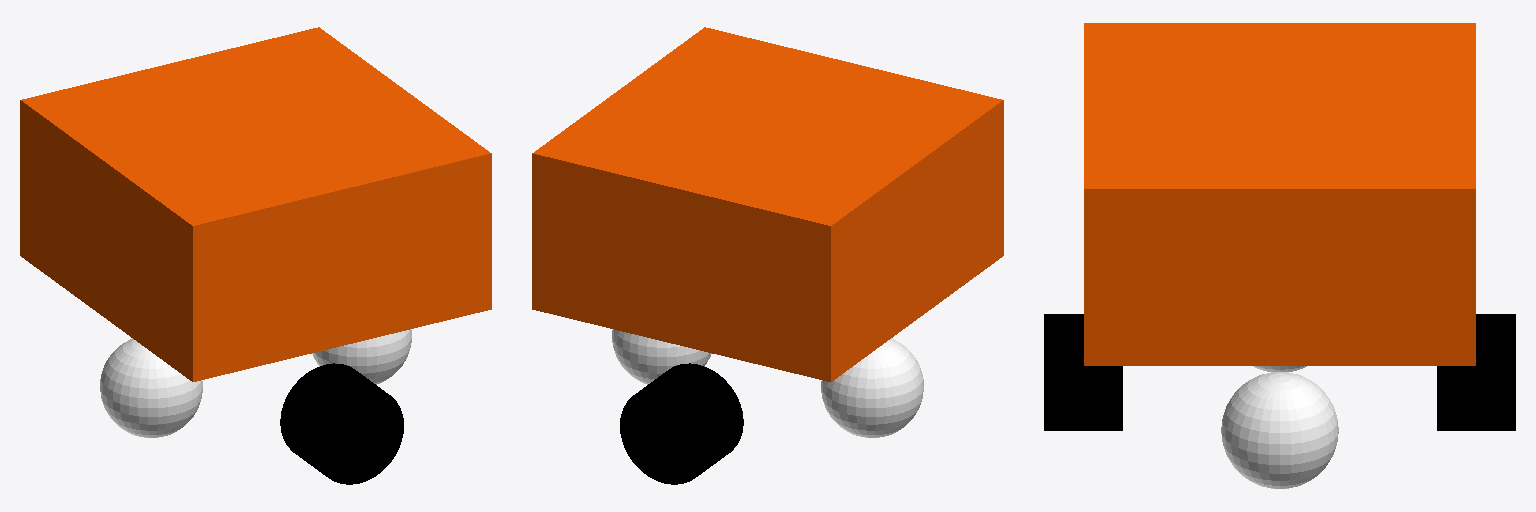
robot.urdf — diffbot:
<?xml version="1.0"?>
<!--
  Plain URDF expanded from ros2_control_demo_description DiffBot xacro
  (prefix="") for MineWorld urdf_to_mjcf_planar.py. Source xacro remains in urdf/.
  Upstream: ros-controls/ros2_control_demos @ 1c5c4399a66302987af83684469fe9fde42a0e67
  License: Apache-2.0 (see LICENSE).

  Geometry: official DiffBot ×10 (≈1.0 m chassis footprint) for POC visibility.
  Chassis mass/Izz kept for MineWorld planar velocity-servo tracking (not volume-scaled).

  Simulation authority = generated MJCF (diffbot_planar.xml) with MineWorld
  planar velocity joints — not native differential wheel actuators.
-->
<robot name="diffbot">
  <link name="base_link">
    <collision>
      <origin xyz="0 0 0" rpy="0 0 0"/>
      <geometry>
        <box size="1.0 1.0 0.5"/>
      </geometry>
    </collision>
    <visual>
      <origin xyz="0 0 0.25" rpy="0 0 0"/>
      <geometry>
        <box size="1.0 1.0 0.5"/>
      </geometry>
      <material name="orange">
        <color rgba="1.0 0.4235294118 0.03921568627 1"/>
      </material>
    </visual>
    <inertial>
      <origin xyz="0 0 0" rpy="0 0 0"/>
      <!-- Not volume-scaled with ×10 geometry; tuned for planar velocity servos. -->
      <mass value="12.0"/>
      <inertia ixx="0.15" ixy="0.0" ixz="0.0" iyy="0.25" iyz="0.0" izz="0.30"/>
    </inertial>
  </link>

  <joint name="left_wheel_joint" type="continuous">
    <parent link="base_link"/>
    <child link="left_wheel"/>
    <origin xyz="0 -0.5 -0.25" rpy="0 0 0"/>
    <axis xyz="0 1 0"/>
    <dynamics damping="0.2"/>
    <limit effort="100" velocity="1.0"/>
  </joint>
  <link name="left_wheel">
    <collision>
      <origin xyz="0 0 0" rpy="1.57079632679 0 0"/>
      <geometry>
        <cylinder length="0.2" radius="0.15"/>
      </geometry>
    </collision>
    <visual>
      <origin xyz="0 0 0" rpy="1.57079632679 0 0"/>
      <geometry>
        <cylinder length="0.2" radius="0.15"/>
      </geometry>
      <material name="black">
        <color rgba="0 0 0 1"/>
      </material>
    </visual>
    <inertial>
      <origin xyz="0 0 0" rpy="1.57079632679 0 0"/>
      <mass value="0.3"/>
      <inertia ixx="2.275e-05" ixy="0.0" ixz="0.0" iyy="2.275e-05" iyz="0.0" izz="3.375e-05"/>
    </inertial>
  </link>

  <joint name="right_wheel_joint" type="continuous">
    <parent link="base_link"/>
    <child link="right_wheel"/>
    <origin xyz="0 0.5 -0.25" rpy="0 0 0"/>
    <axis xyz="0 1 0"/>
    <dynamics damping="0.2"/>
    <limit effort="100" velocity="1.0"/>
  </joint>
  <link name="right_wheel">
    <collision>
      <origin xyz="0 0 0" rpy="1.57079632679 0 0"/>
      <geometry>
        <cylinder length="0.2" radius="0.15"/>
      </geometry>
    </collision>
    <visual>
      <origin xyz="0 0 0" rpy="1.57079632679 0 0"/>
      <geometry>
        <cylinder length="0.2" radius="0.15"/>
      </geometry>
      <material name="black">
        <color rgba="0 0 0 1"/>
      </material>
    </visual>
    <inertial>
      <origin xyz="0 0 0" rpy="1.57079632679 0 0"/>
      <mass value="0.3"/>
      <inertia ixx="2.275e-05" ixy="0.0" ixz="0.0" iyy="2.275e-05" iyz="0.0" izz="3.375e-05"/>
    </inertial>
  </link>

  <joint name="caster_frontal_wheel_joint" type="fixed">
    <parent link="base_link"/>
    <child link="caster_frontal_wheel"/>
    <origin xyz="0.35 0 -0.25" rpy="0 0 0"/>
  </joint>
  <link name="caster_frontal_wheel">
    <collision>
      <origin xyz="0 0 0" rpy="0 0 0"/>
      <geometry>
        <sphere radius="0.15"/>
      </geometry>
    </collision>
    <visual>
      <origin xyz="0 0 0" rpy="0 0 0"/>
      <geometry>
        <sphere radius="0.15"/>
      </geometry>
      <material name="white">
        <color rgba="1 1 1 1"/>
      </material>
    </visual>
    <inertial>
      <origin xyz="0 0 0" rpy="0 0 0"/>
      <mass value="0.1"/>
      <inertia ixx="9e-06" ixy="0.0" ixz="0.0" iyy="9e-06" iyz="0.0" izz="9e-06"/>
    </inertial>
  </link>

  <joint name="caster_rear_wheel_joint" type="fixed">
    <parent link="base_link"/>
    <child link="caster_rear_wheel"/>
    <origin xyz="-0.35 0 -0.25" rpy="0 0 0"/>
  </joint>
  <link name="caster_rear_wheel">
    <collision>
      <origin xyz="0 0 0" rpy="0 0 0"/>
      <geometry>
        <sphere radius="0.15"/>
      </geometry>
    </collision>
    <visual>
      <origin xyz="0 0 0" rpy="0 0 0"/>
      <geometry>
        <sphere radius="0.15"/>
      </geometry>
      <material name="white">
        <color rgba="1 1 1 1"/>
      </material>
    </visual>
    <inertial>
      <origin xyz="0 0 0" rpy="0 0 0"/>
      <mass value="0.1"/>
      <inertia ixx="9e-06" ixy="0.0" ixz="0.0" iyy="9e-06" iyz="0.0" izz="9e-06"/>
    </inertial>
  </link>
</robot>

--- What the picture shows (computed from the rendered views, not written in the file) ---
Views: 3 orthographic renders of the robot side by side, from view 1: azimuth 30°, elevation 25°; view 2: azimuth 150°, elevation 25°; view 3: azimuth 270°, elevation 25°.
Robot: diffbot — 5 links, 4 joints (2 continuous, 2 fixed); root link base_link; default pose: every joint at zero.
Links seen in each view (by area): view 1: base_link, left_wheel, caster_rear_wheel, caster_frontal_wheel; view 2: base_link, right_wheel, caster_rear_wheel, caster_frontal_wheel; view 3: base_link, caster_frontal_wheel, left_wheel, right_wheel.
Link boxes in pixels (x1,y1,x2,y2): base_link: (20,27,491,381); left_wheel: (280,363,403,484); caster_rear_wheel: (100,338,202,437); caster_frontal_wheel: (312,329,411,384); base_link: (532,27,1003,381); right_wheel: (620,363,743,484); caster_rear_wheel: (821,338,923,437); caster_frontal_wheel: (612,329,711,384); base_link: (1084,23,1475,365); caster_frontal_wheel: (1221,372,1338,488); left_wheel: (1044,314,1122,430); right_wheel: (1437,314,1515,430).
Bounding box of the posed robot: 1 × 1.2 × 0.9 m (x, y, z).
Geometry: primitives only (box / cylinder / sphere), no mesh files.
